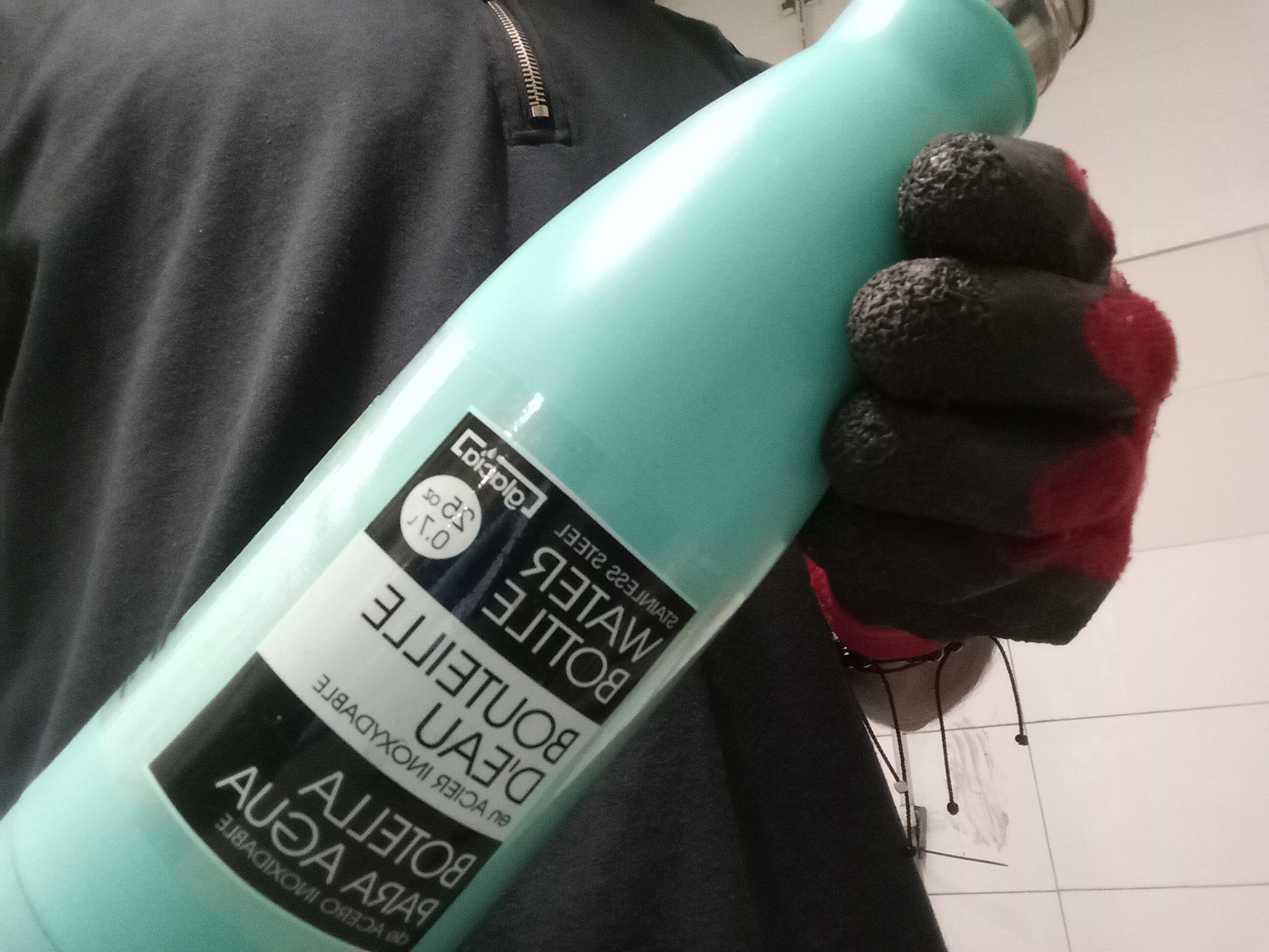Metal: (0, 3, 1106, 952)
